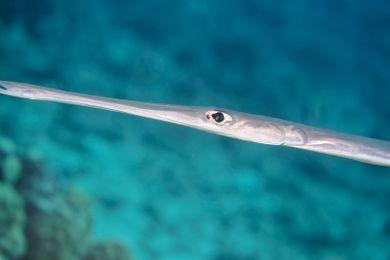Fistularia commersonii: (0, 77, 389, 168)
